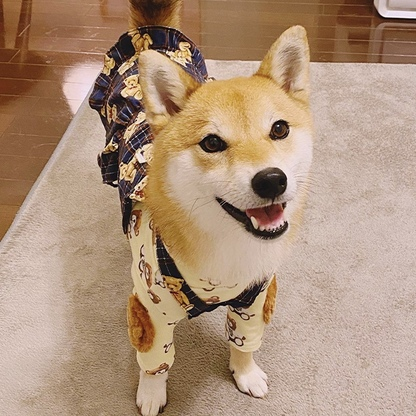shiba: (92, 2, 321, 416)
